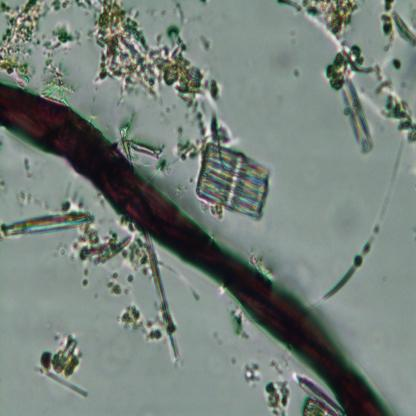Background material: (95, 0, 241, 107), (312, 200, 389, 312), (324, 49, 380, 153), (142, 232, 186, 362), (31, 330, 104, 401), (0, 194, 101, 244), (0, 0, 55, 81), (370, 51, 416, 141), (76, 219, 132, 282), (113, 117, 169, 172), (176, 121, 235, 167), (36, 49, 78, 105), (296, 375, 342, 416), (123, 305, 160, 344), (263, 376, 296, 416), (108, 264, 140, 300), (48, 27, 88, 52), (50, 0, 99, 17), (241, 358, 266, 387), (233, 308, 246, 345), (16, 190, 35, 209), (200, 32, 216, 52), (22, 153, 32, 180), (291, 65, 302, 77), (0, 174, 6, 188)
Cotton: (0, 80, 393, 416)
Diatom: (197, 137, 274, 222)
